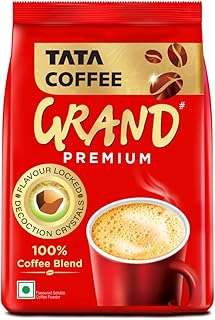Coffee: (3, 1, 214, 315)
